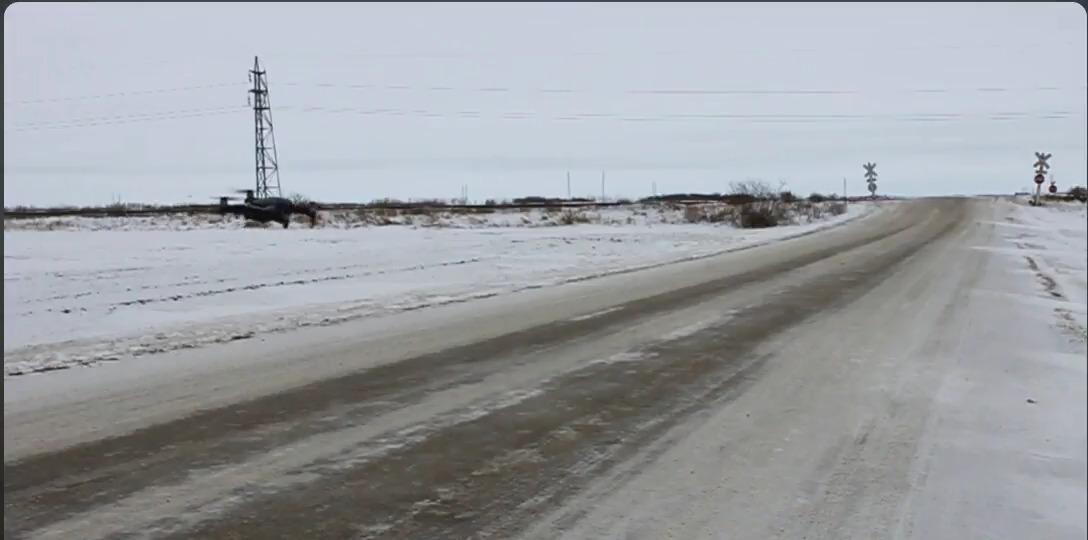dr: (210, 186, 328, 234)
